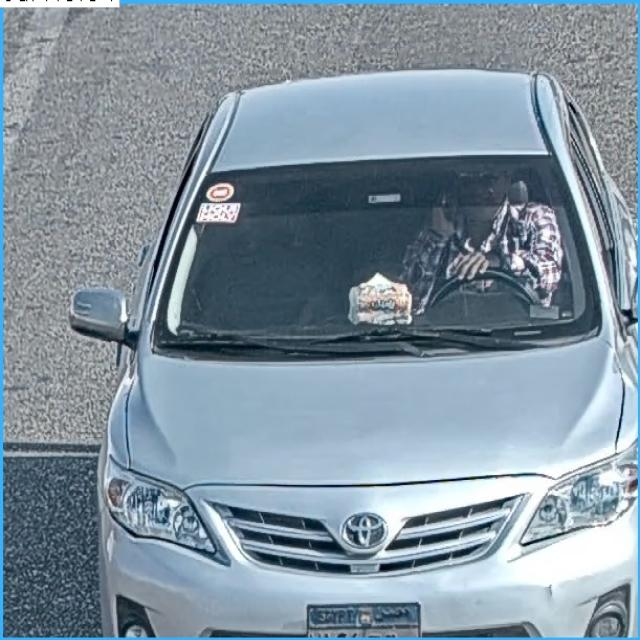windshield: (171, 161, 588, 330)
